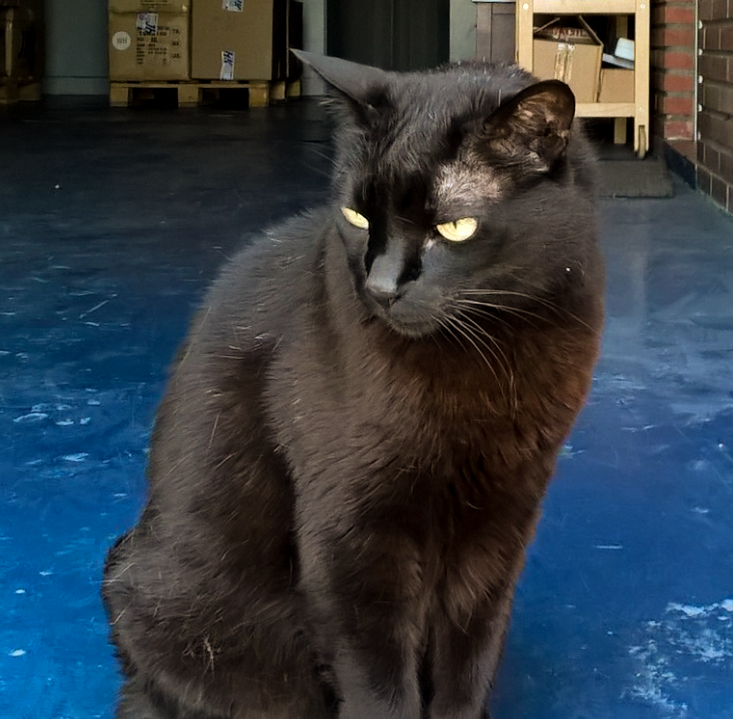gato: (104, 22, 630, 719)
